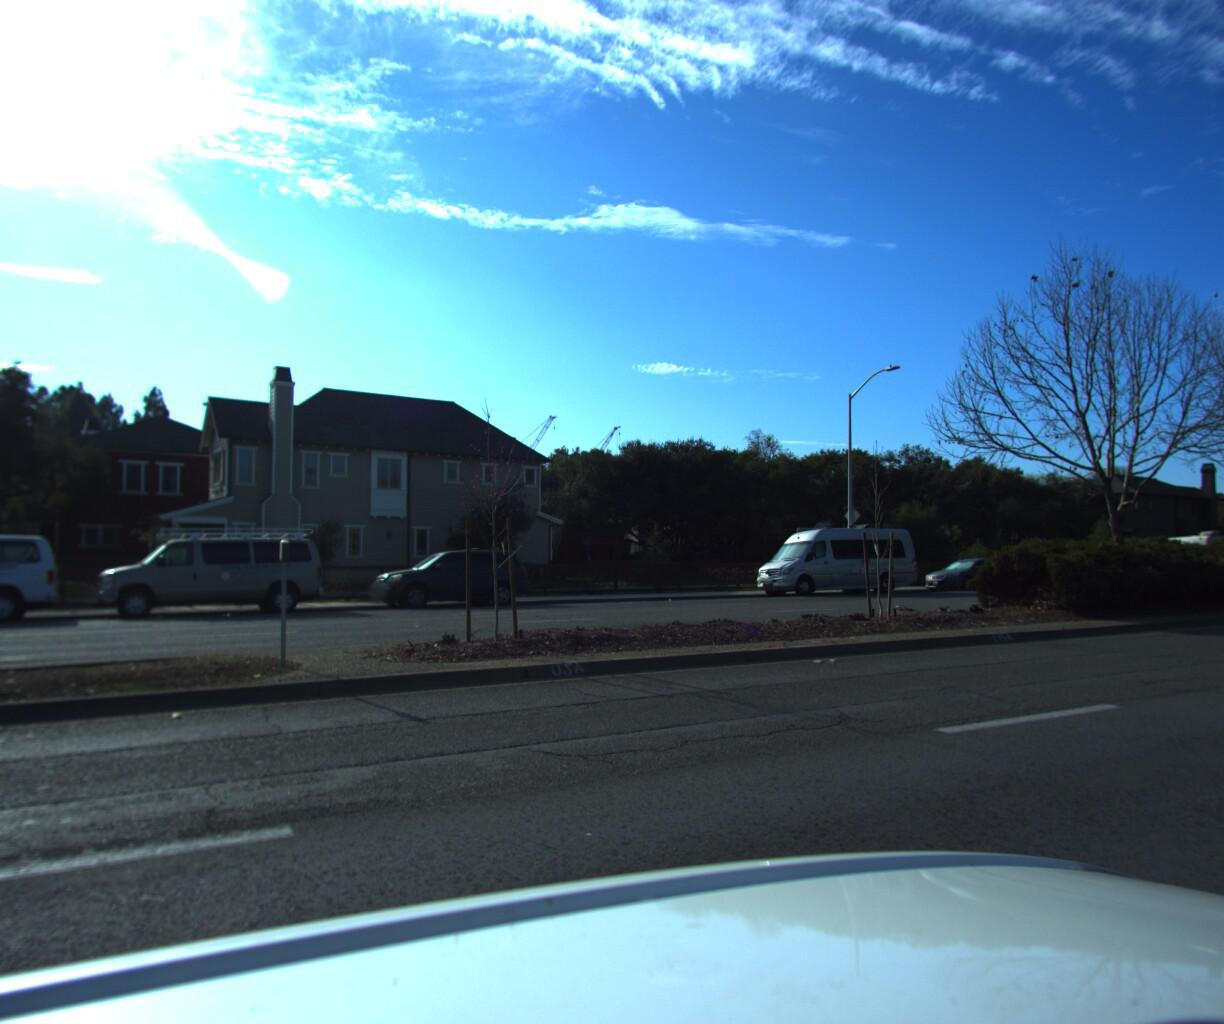car: (86, 522, 329, 627), (740, 515, 925, 597), (359, 542, 537, 613), (913, 551, 1022, 589)
other_vehicle: (1145, 520, 1224, 579), (1220, 519, 1224, 577)
